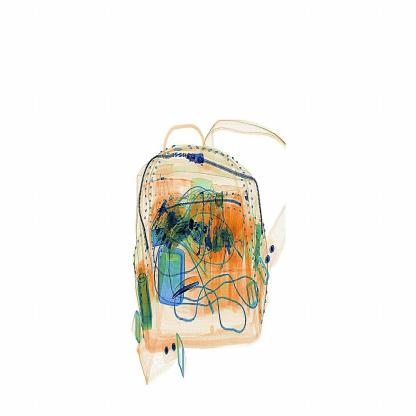pliers: (169, 269, 212, 307)
